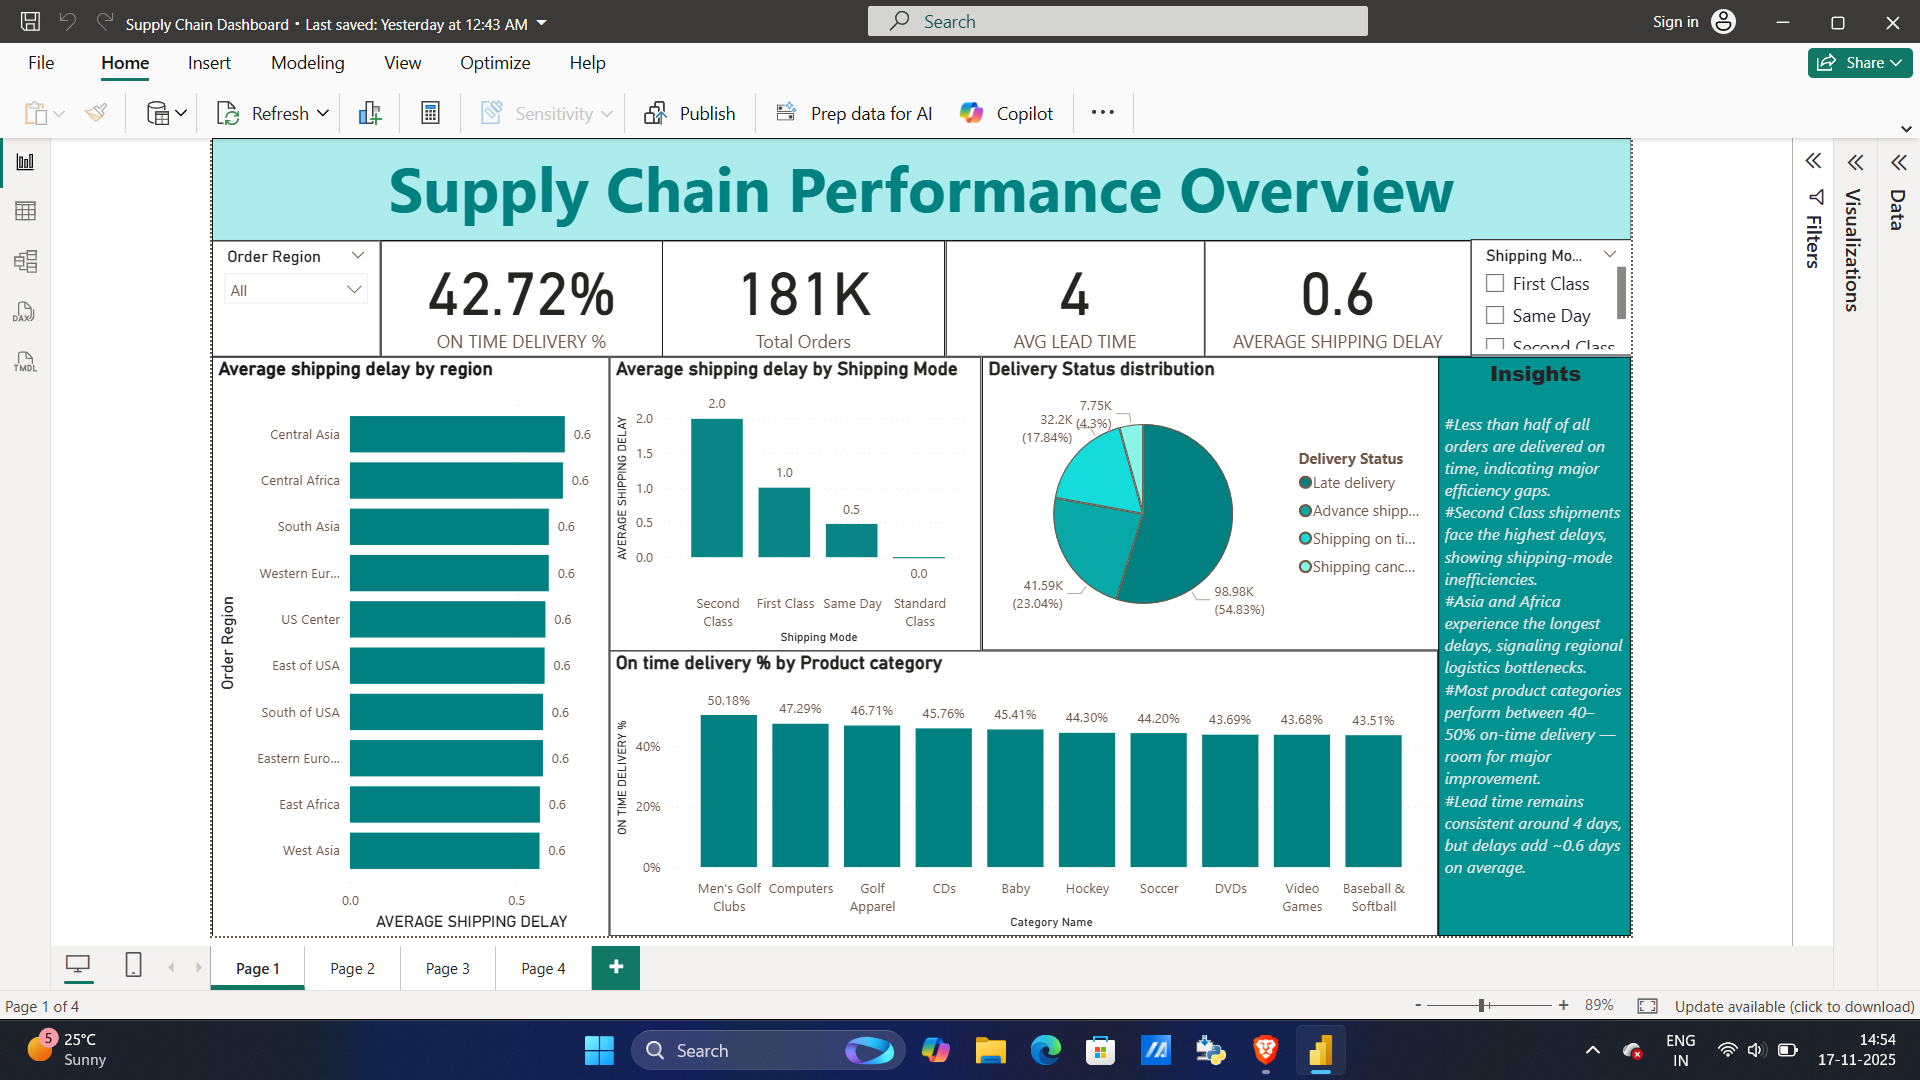

What the dashboard file says about the page in this screenshot:
{"tool":"powerbi","page":{"name":"Page 1","canvas":[1280,720],"ordinal":0},"visuals":[{"type":"card","fields":{"Values":["Cleaned_SupplyChain.ON TIME DELIVERY %"]},"box":[151.6,92.9,254.3,105.2],"z":0},{"type":"card","fields":{"Values":["Cleaned_SupplyChain.Total Orders"]},"box":[406,92.9,255.6,105.2],"z":1000},{"type":"card","fields":{"Values":["Cleaned_SupplyChain.AVG LEAD TIME"]},"box":[661.6,92.9,233.6,105.2],"z":2000},{"type":"card","fields":{"Values":["Cleaned_SupplyChain.AVERAGE SHIPPING DELAY"]},"box":[895.1,92.9,240.9,105.2],"z":3000},{"type":"textbox","box":[0,0,1280,92.9],"z":4000},{"type":"clusteredBarChart","title":"Average shipping delay by region","fields":{"Y":["Cleaned_SupplyChain.AVERAGE SHIPPING DELAY"],"Category":["Cleaned_SupplyChain.Order Region"]},"box":[0,196.9,358.3,523.4],"z":5000},{"type":"clusteredColumnChart","title":"Average shipping delay by Shipping Mode","fields":{"Y":["Cleaned_SupplyChain.AVERAGE SHIPPING DELAY"],"Category":["Cleaned_SupplyChain.Shipping Mode"]},"box":[358.3,196.9,335.1,265.4],"z":6000},{"type":"clusteredColumnChart","title":"On time delivery % by Product category","fields":{"Y":["Cleaned_SupplyChain.ON TIME DELIVERY %"],"Category":["Cleaned_SupplyChain.Category Name"]},"box":[358.8,462.5,747.5,257.5],"z":7000},{"type":"pieChart","title":"Delivery Status distribution","fields":{"Category":["Cleaned_SupplyChain.Delivery Status"],"Y":["CountNonNull(Cleaned_SupplyChain.Delivery Status)"]},"box":[693.8,197.5,412.5,265],"z":8000},{"type":"slicer","fields":{"Values":["Cleaned_SupplyChain.Order Region"]},"box":[0,92.9,151.6,105.2],"z":9000},{"type":"slicer","fields":{"Values":["Cleaned_SupplyChain.Shipping Mode"]},"box":[1134.8,91.7,145.5,105.2],"z":10000},{"type":"textbox","title":"Insights","box":[1106.2,197.5,173.8,522.5],"z":11000}]}

Visuals, with their boxes on the page's 1280x720 design canvas (x1, y1, x2, y2). These are canvas units, not pixel positions in the 1920x1080 screenshot, which may show the page scaled, cropped or inside an application window:
card - Cleaned_SupplyChain.ON TIME DELIVERY %: locate(152, 93, 406, 198)
card - Cleaned_SupplyChain.Total Orders: locate(406, 93, 662, 198)
card - Cleaned_SupplyChain.AVG LEAD TIME: locate(662, 93, 895, 198)
card - Cleaned_SupplyChain.AVERAGE SHIPPING DELAY: locate(895, 93, 1136, 198)
textbox: locate(0, 0, 1280, 93)
"Average shipping delay by region" clusteredBarChart: locate(0, 197, 358, 720)
"Average shipping delay by Shipping Mode" clusteredColumnChart: locate(358, 197, 693, 462)
"On time delivery % by Product category" clusteredColumnChart: locate(359, 462, 1106, 720)
"Delivery Status distribution" pieChart: locate(694, 198, 1106, 462)
slicer - Cleaned_SupplyChain.Order Region: locate(0, 93, 152, 198)
slicer - Cleaned_SupplyChain.Shipping Mode: locate(1135, 92, 1280, 197)
"Insights" textbox: locate(1106, 198, 1280, 720)
